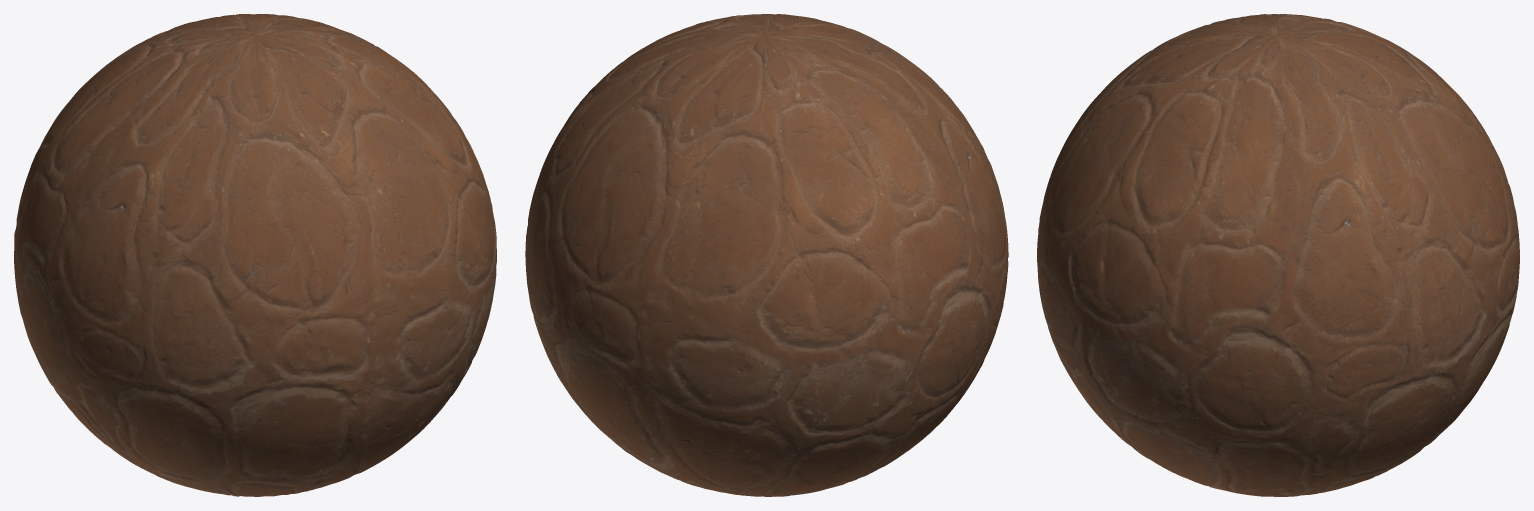
Rendered from patterned_clay_wall_2k.gltf.
3 renders of one model, left to right at view 1: azimuth 30°, elevation 25°; view 2: azimuth 150°, elevation 25°; view 3: azimuth 270°, elevation 25°, orthographic.
Parts seen in each view (by area): view 1: sphere_gltf; view 2: sphere_gltf; view 3: sphere_gltf.
Boxes of the visible parts, left/top/right/bottom form: sphere_gltf: left=14, top=14, right=496, bottom=496; sphere_gltf: left=525, top=14, right=1008, bottom=496; sphere_gltf: left=1037, top=14, right=1519, bottom=496.
Size of the model in its own units: 1.25 by 1.25 by 1.25.
1 material, 1 textured.
